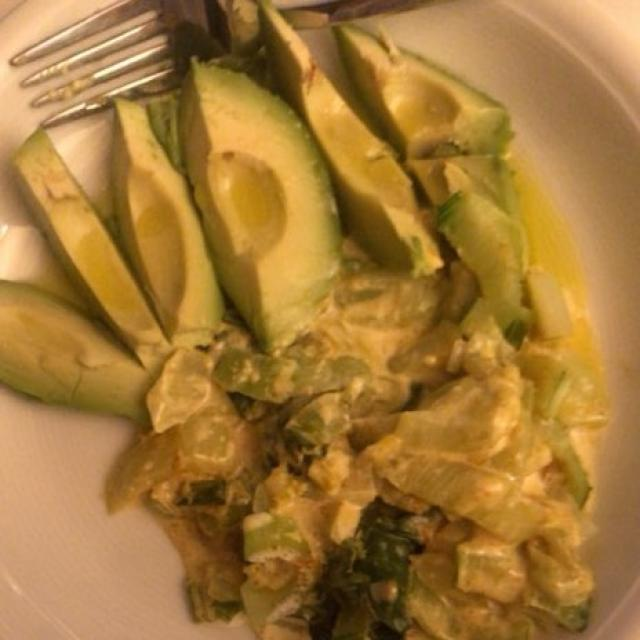avocado: (8, 13, 517, 450)
cabbage: (94, 272, 576, 629)
